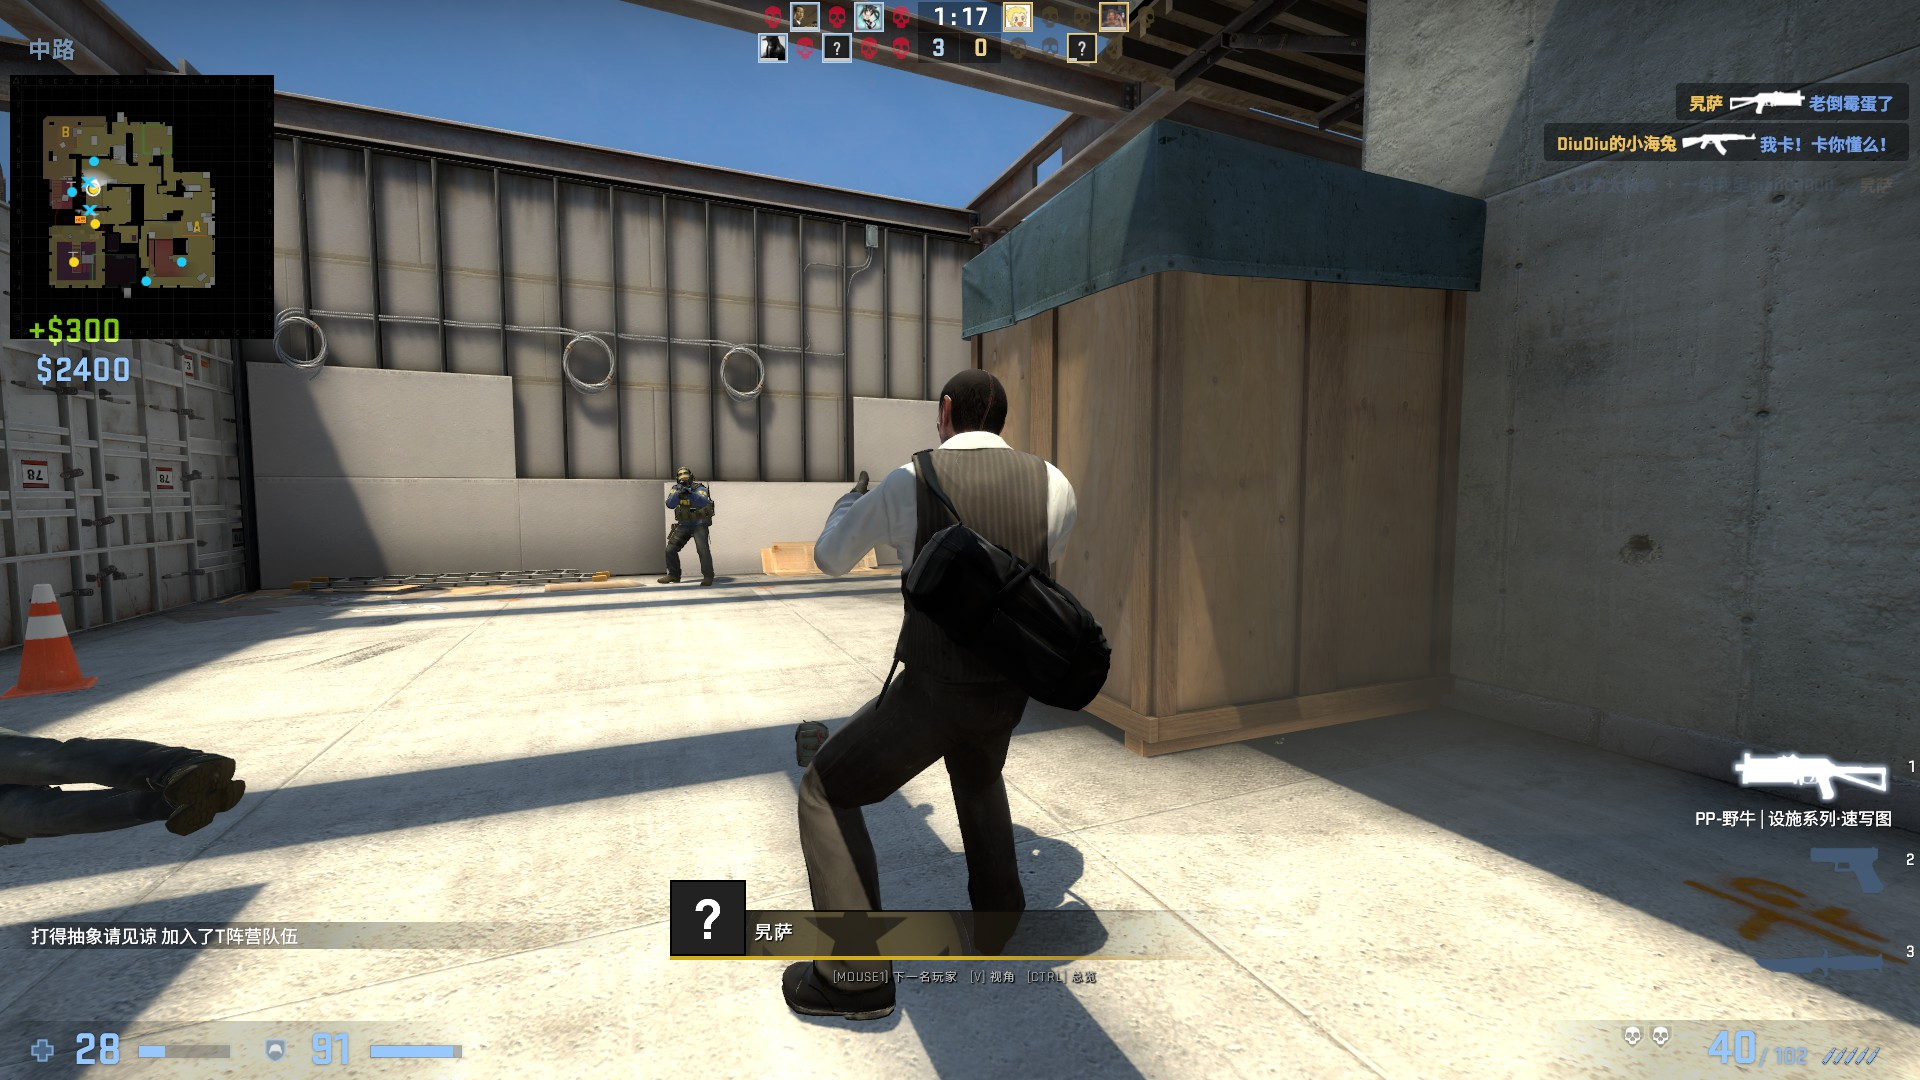head: (936, 366, 1009, 444), (673, 465, 694, 487)
